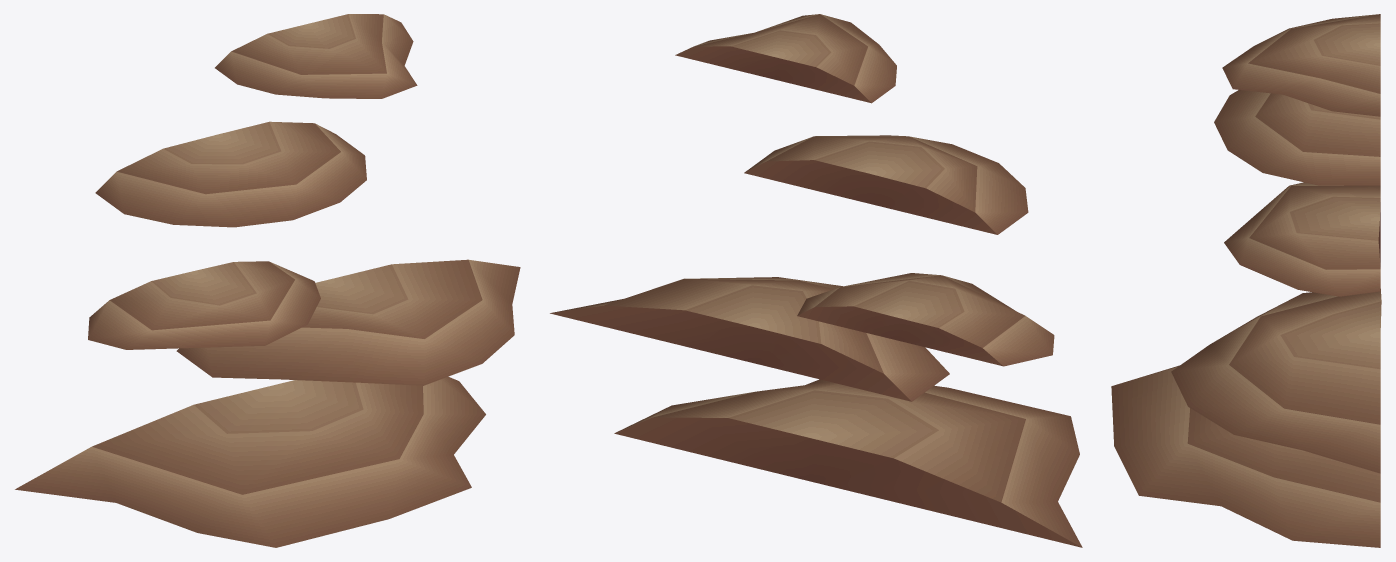
File: Mushroom_5A.fbx
3 renders of one model, left to right at view 1: azimuth 30°, elevation 25°; view 2: azimuth 150°, elevation 25°; view 3: azimuth 270°, elevation 25°, orthographic. The views are drawn at different scales.
Visible parts, largest first — view 1: Mushroom_5A; view 2: Mushroom_5A; view 3: Mushroom_5A.
Boxes of the visible parts, x1,y1,x2,y2 form: Mushroom_5A: (15, 14, 520, 547); Mushroom_5A: (550, 14, 1082, 547); Mushroom_5A: (1111, 14, 1381, 547).
Bounding box in the file's own units: 1.19 × 0.8879 × 0.513.
